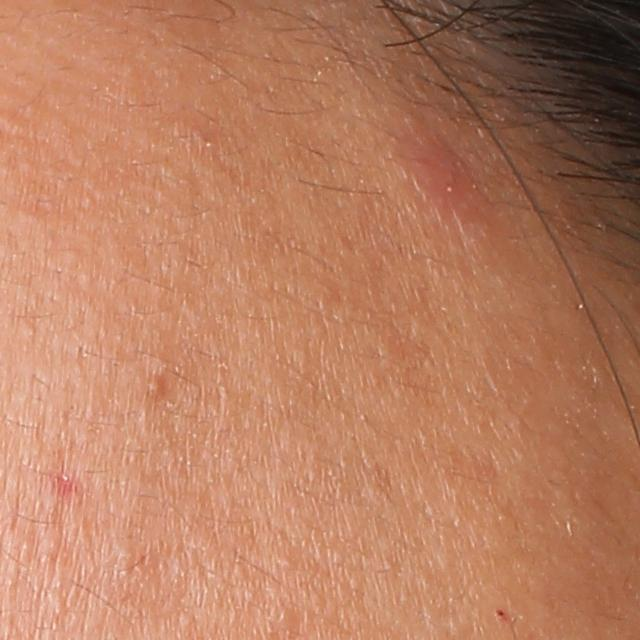comedo: (141, 371, 168, 406), (113, 541, 135, 570)
